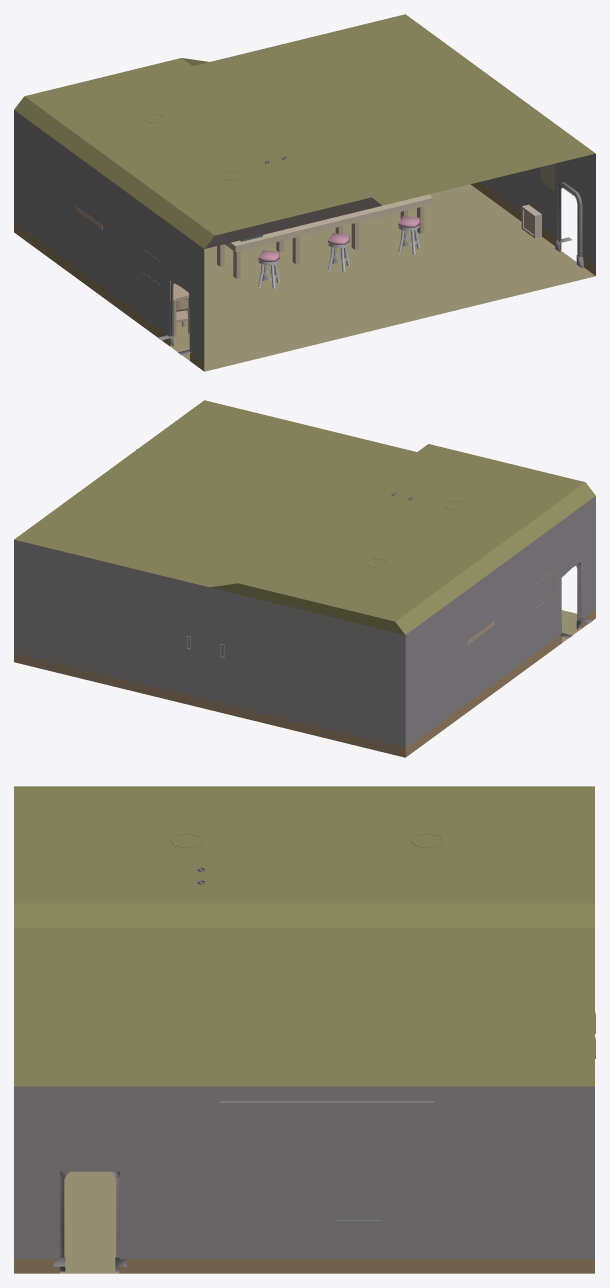
Rendered from Room3.dae.
The picture shows the model from 3 angles, top to bottom: view 1: azimuth 30°, elevation 25°; view 2: azimuth 150°, elevation 25°; view 3: azimuth 270°, elevation 25°; orthographic projection. The views are drawn at different scales.
Visible parts, largest first — view 1: SubMesh_24; view 2: SubMesh_24; view 3: SubMesh_24.
Boxes of the visible parts, x1=… form: SubMesh_24: x1=14, y1=14, x2=595, y2=371; SubMesh_24: x1=14, y1=400, x2=595, y2=757; SubMesh_24: x1=14, y1=786, x2=595, y2=1273.
Bounding box in the file's own units: 20.61 × 16.54 × 6.45.
